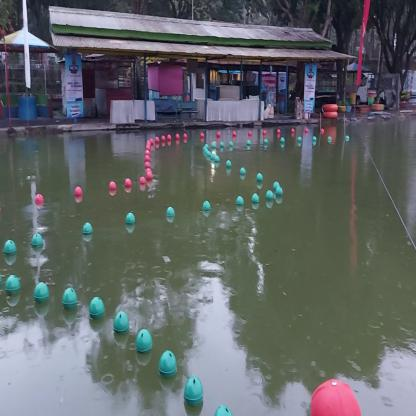green_buoy: (182, 375, 206, 402), (158, 348, 178, 375), (134, 329, 153, 352), (33, 281, 51, 301), (61, 286, 78, 307), (89, 295, 104, 318), (4, 273, 21, 293), (213, 401, 235, 416), (114, 311, 129, 333), (3, 237, 17, 254), (30, 232, 45, 246), (124, 211, 136, 224), (82, 220, 93, 234), (265, 188, 274, 200), (251, 192, 260, 203), (165, 206, 176, 215), (202, 199, 211, 209), (236, 195, 244, 204), (276, 186, 283, 196)
red_buoy: (34, 192, 44, 202), (74, 184, 82, 196), (108, 180, 118, 189), (125, 178, 132, 186), (146, 171, 152, 180), (140, 176, 146, 184)
